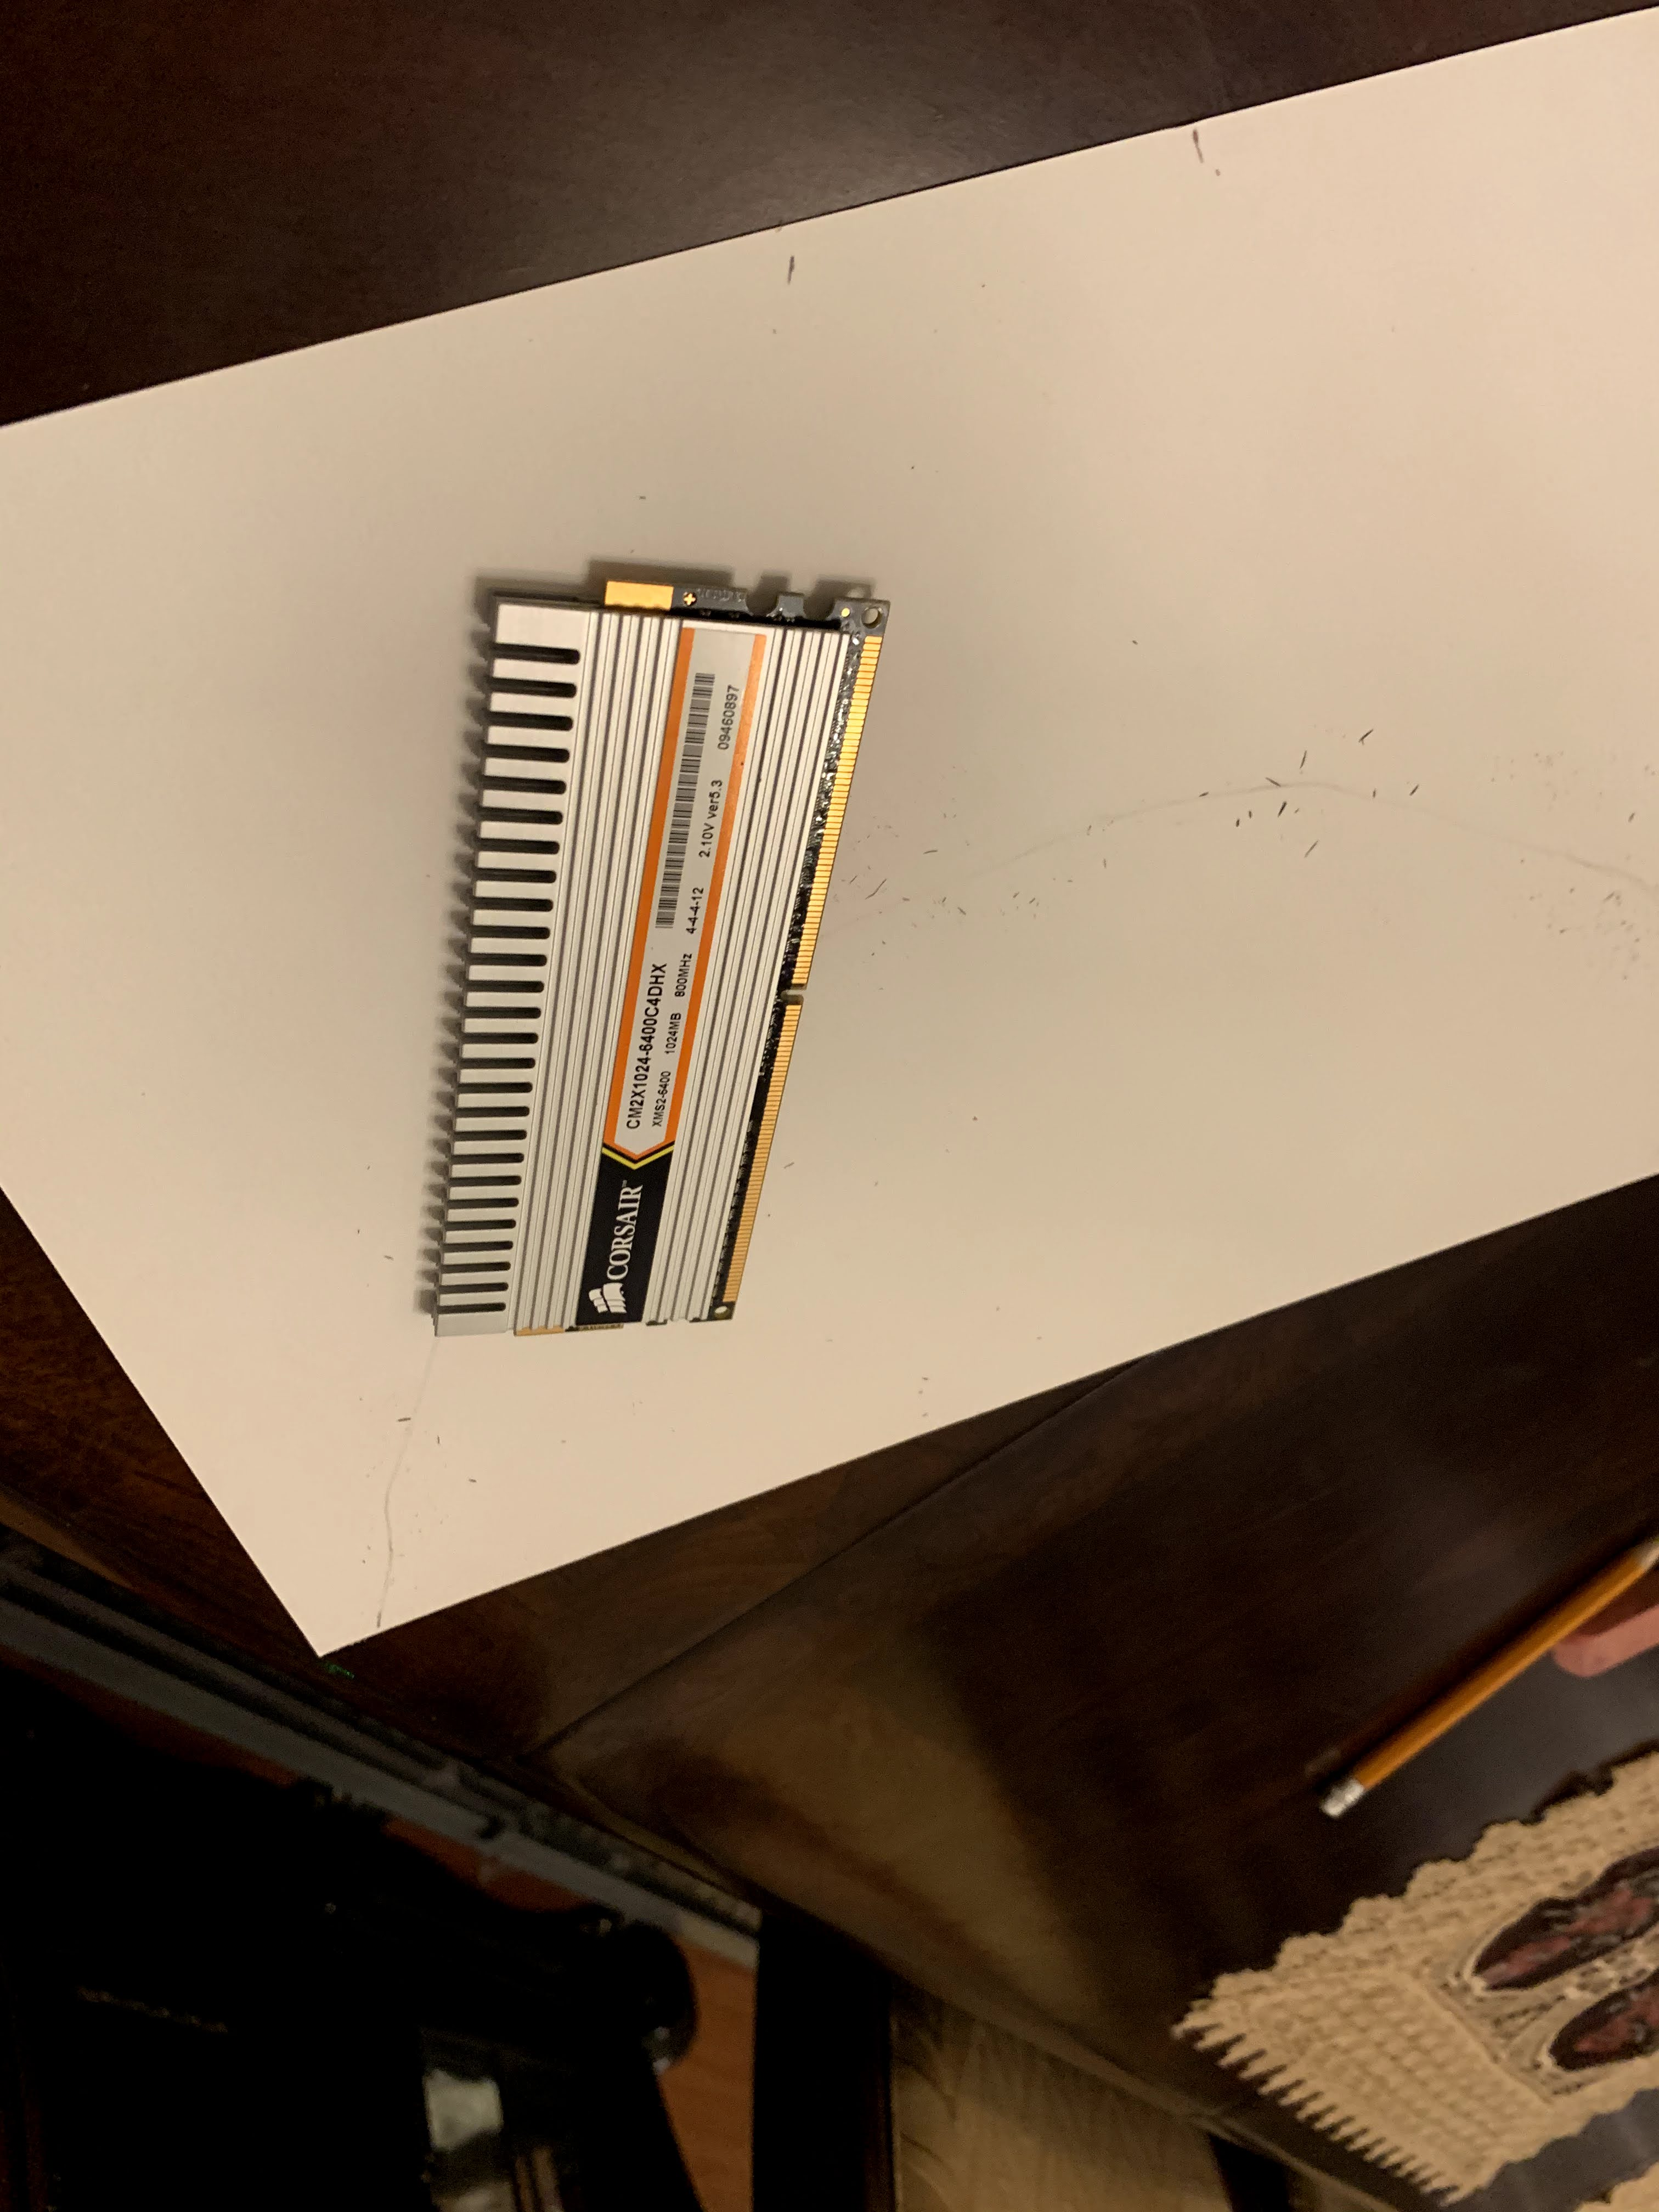Space-debris-medium: (429, 526, 884, 1383)
